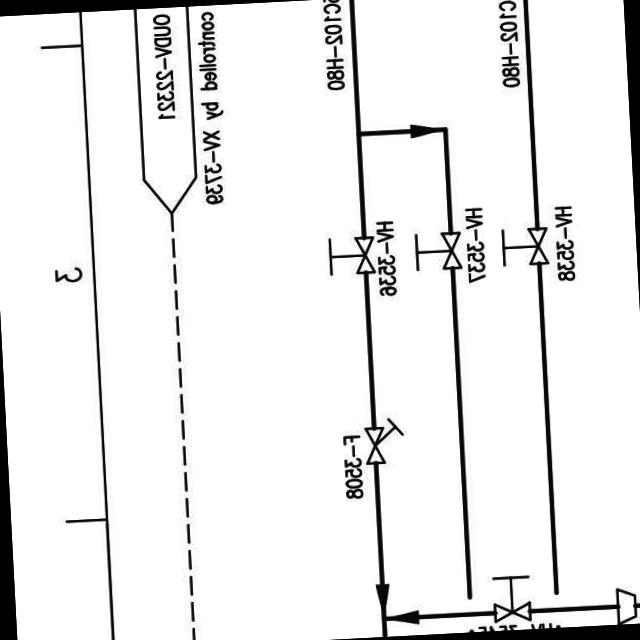HVWT: (408, 225, 465, 276), (487, 571, 535, 628), (495, 224, 550, 272), (322, 232, 374, 280)
S: (360, 414, 404, 472)
SP: (610, 583, 638, 625)
